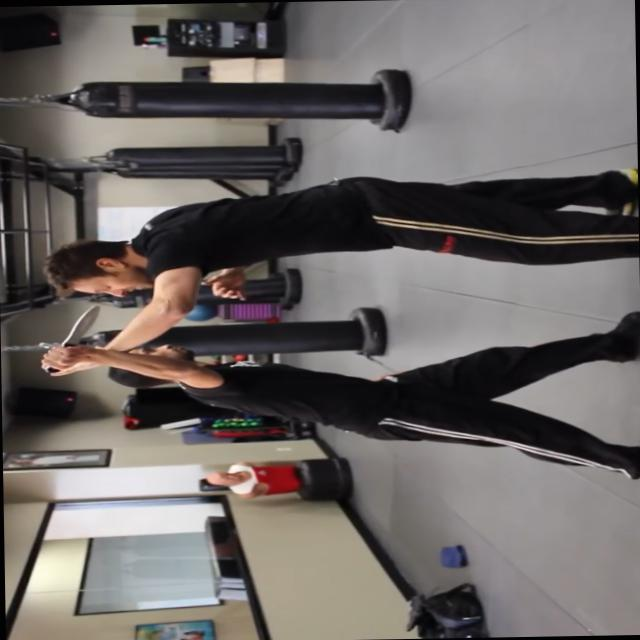knife: (36, 301, 105, 376)
